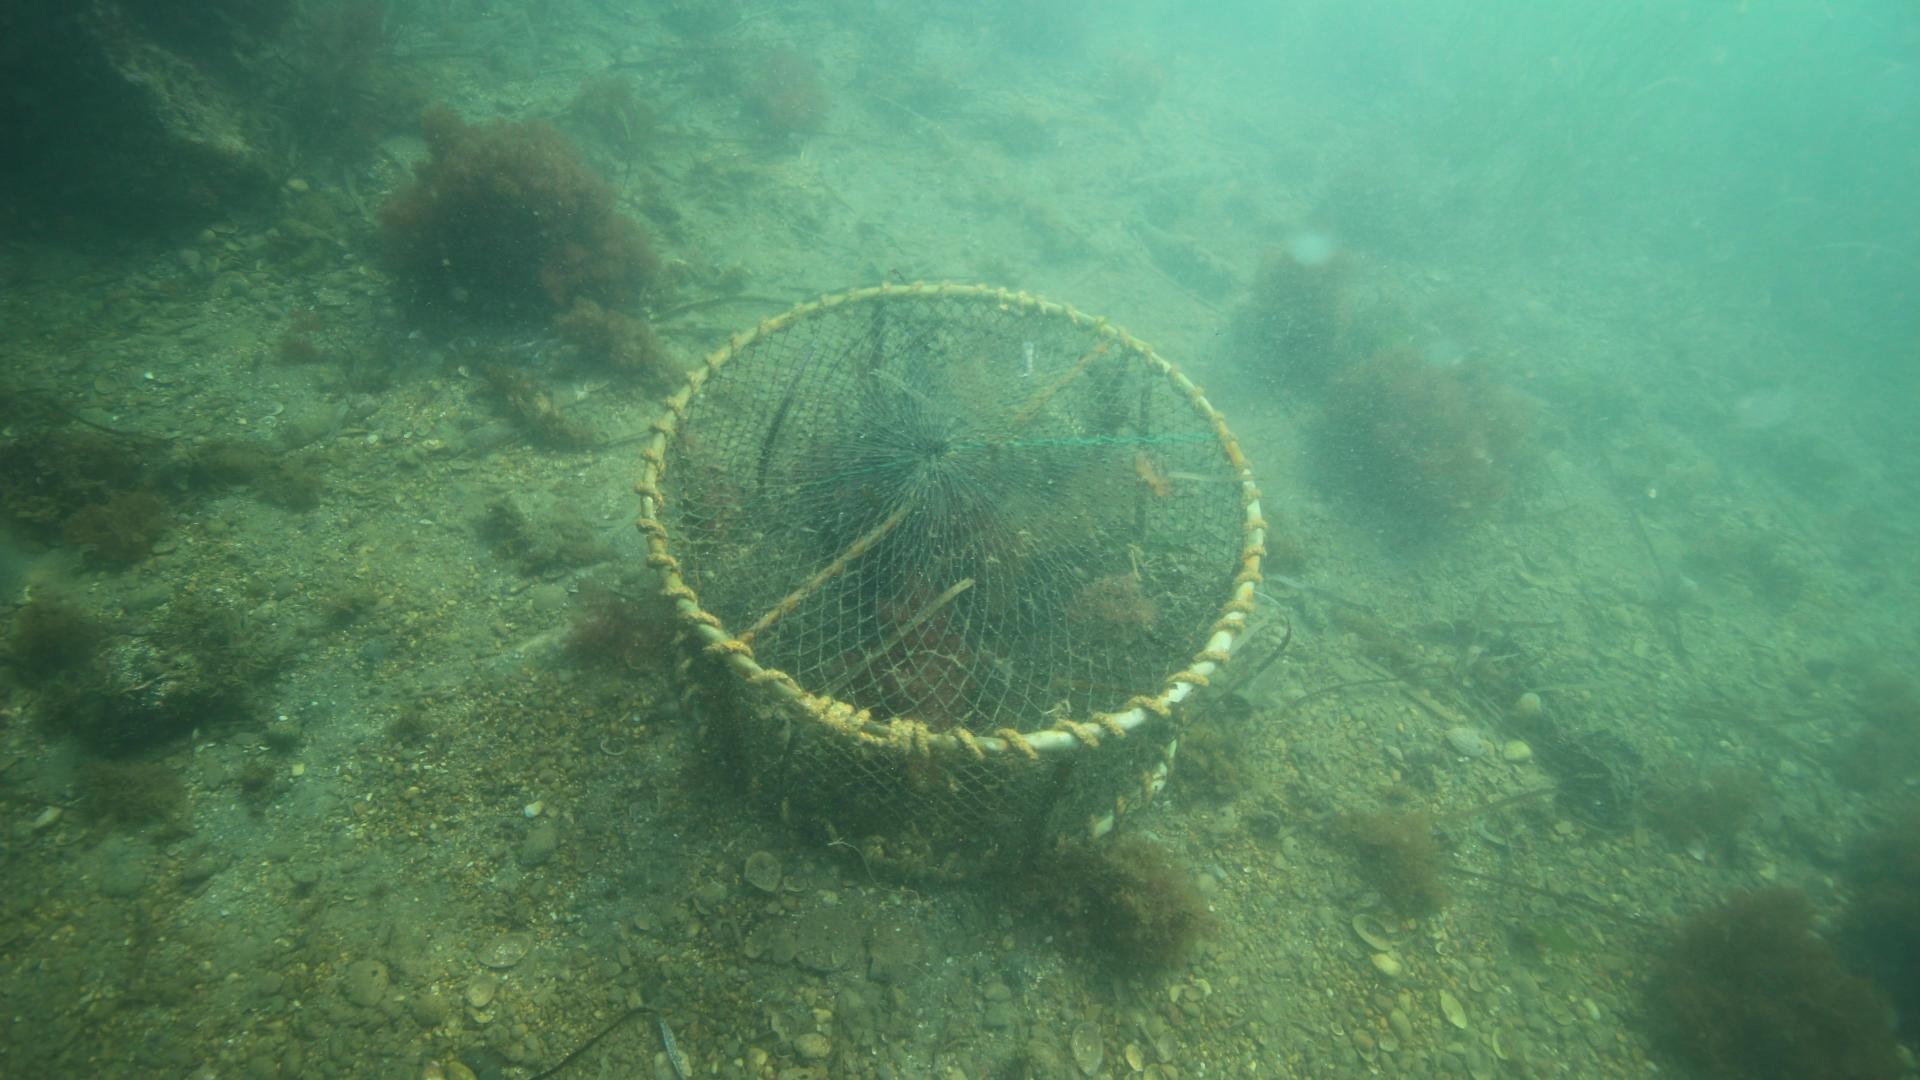circular fish trap: (634, 278, 1269, 881)
